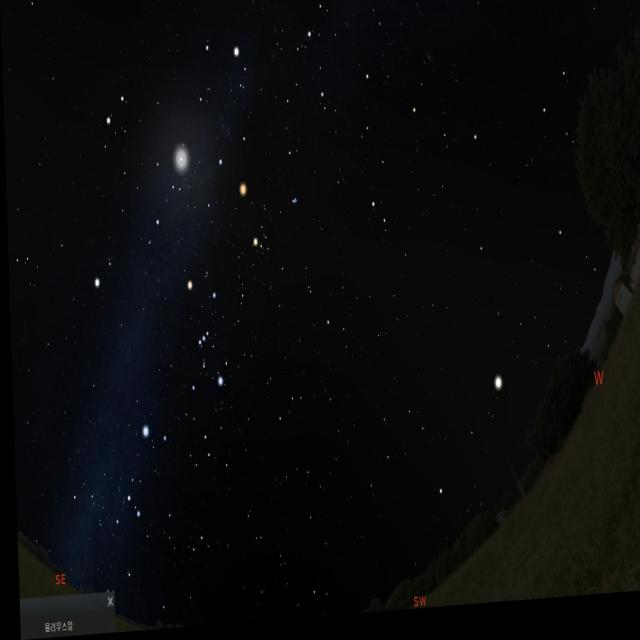canis_major: (113, 410, 168, 532)
canis_minor: (87, 251, 117, 306)
gemini: (100, 85, 183, 247)
moon: (156, 134, 192, 188)
orion: (178, 273, 231, 412)
pleiades: (284, 194, 302, 218)
taurus: (248, 182, 304, 272)
